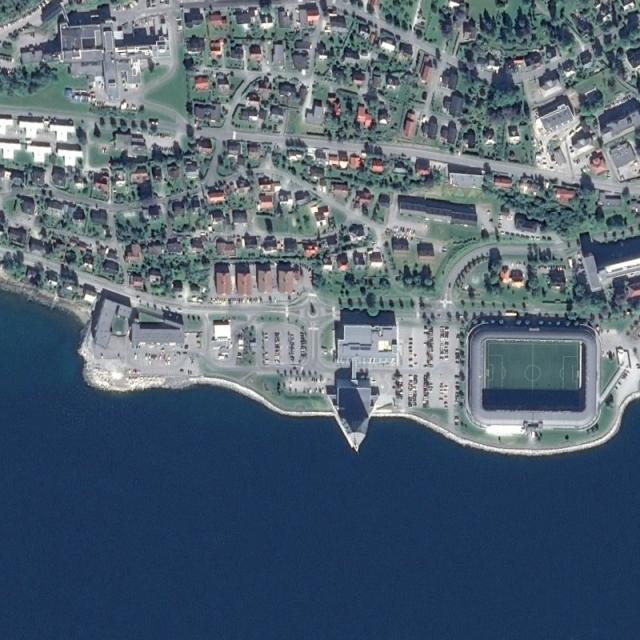vehicle: (506, 311, 517, 317)
